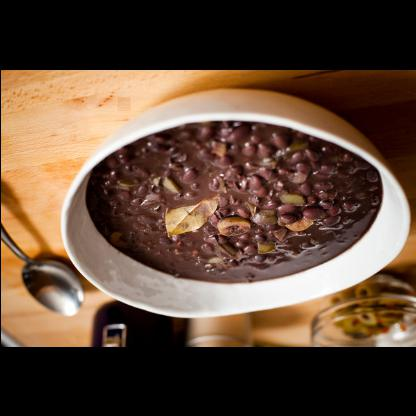black beans: (87, 122, 381, 284)
